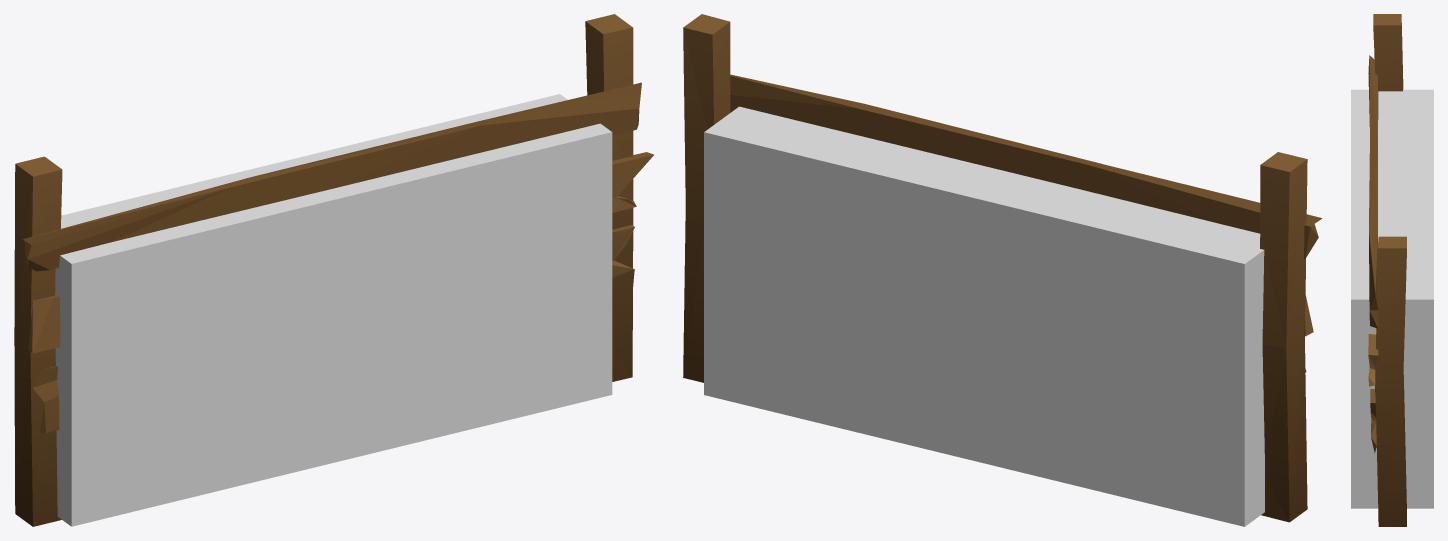
Rendered from fence_4.glb.
3 views of the same model, side by side, from view 1: azimuth 30°, elevation 25°; view 2: azimuth 150°, elevation 25°; view 3: azimuth 270°, elevation 25° (orthographic). The views are drawn at different scales.
Parts seen in each view (by area): view 1: Cube.001, Fence_04; view 2: Cube.001, Fence_04; view 3: Cube.001, Fence_04.
Boxes of the visible parts, x1,y1,x2,y2 form: Cube.001: (55,94,612,526); Fence_04: (14,14,653,526); Cube.001: (704,106,1264,526); Fence_04: (683,14,1322,522); Cube.001: (1351,89,1433,508); Fence_04: (1368,14,1406,526).
Bounding box in the file's own units: 2.14 × 1.13 × 0.3055.
Materials: 1 (1 with a texture image).
